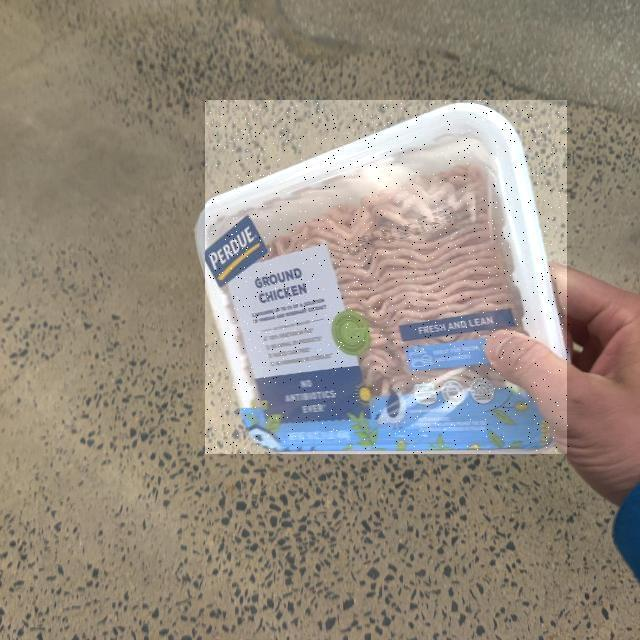Meat: (206, 101, 570, 455)
